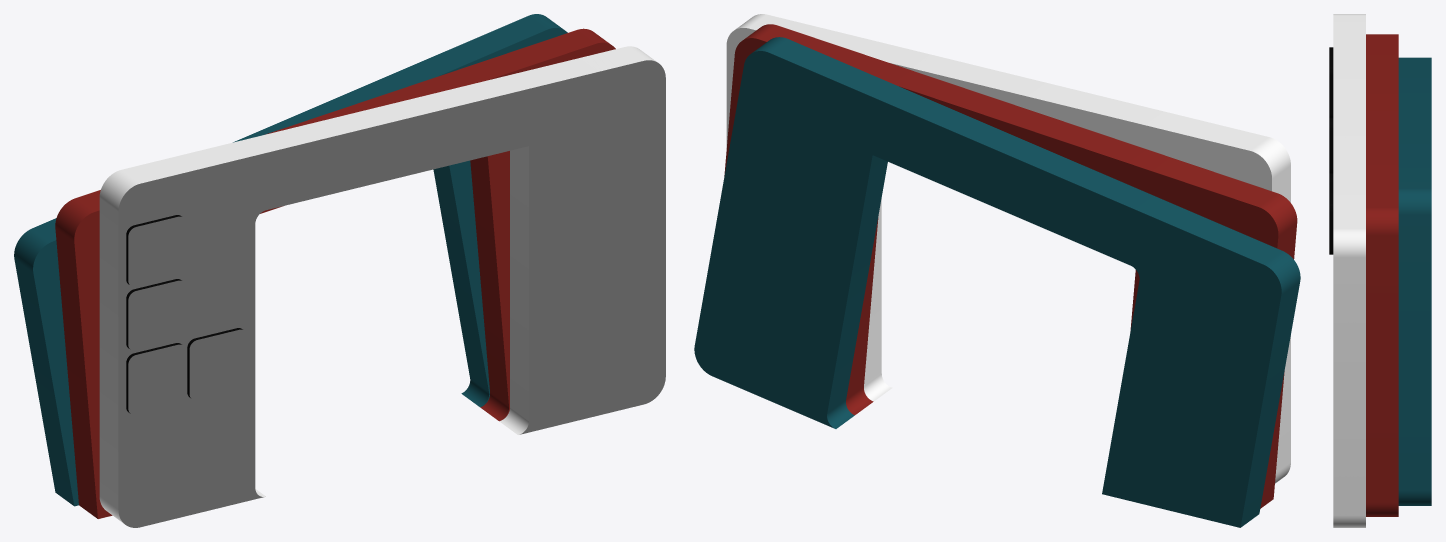
File: gate.FBX
3 renders of one model, left to right at view 1: azimuth 30°, elevation 25°; view 2: azimuth 150°, elevation 25°; view 3: azimuth 270°, elevation 25°, orthographic. The views are drawn at different scales.
Visible parts, largest first — view 1: freepolygon.com; view 2: freepolygon.com; view 3: freepolygon.com.
Boxes of the visible parts, x1=… form: freepolygon.com: x1=14, y1=14, x2=665, y2=527; freepolygon.com: x1=694, y1=14, x2=1300, y2=527; freepolygon.com: x1=1329, y1=14, x2=1431, y2=527.
Bounding box in the file's own units: 543 × 316 × 93.49.
